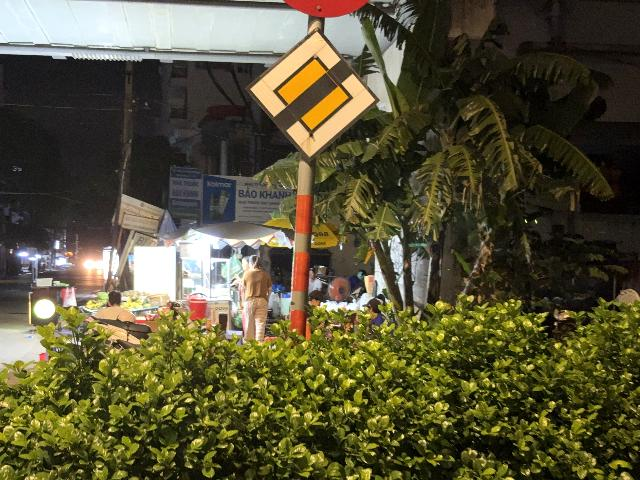het-duong-uu-tien: (245, 26, 381, 163)
